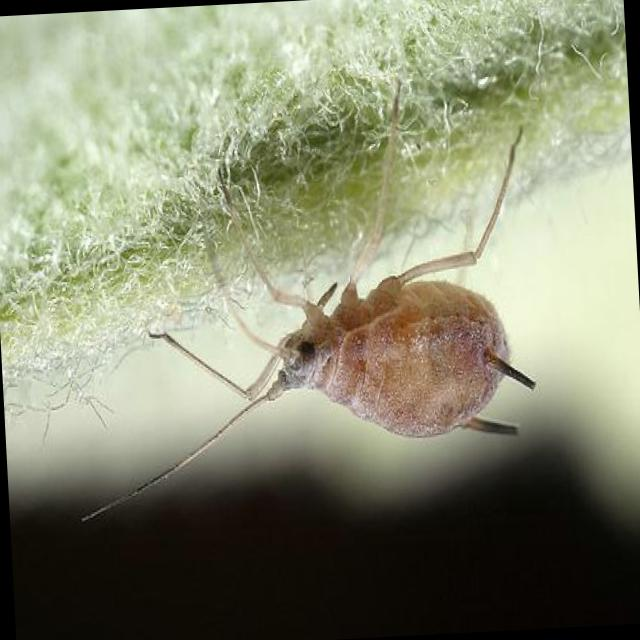Aphids: (72, 120, 576, 556)
